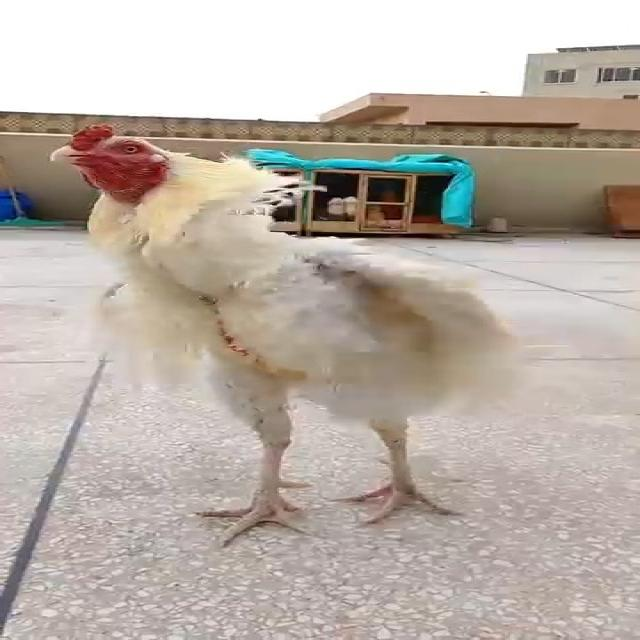wing flap: (18, 120, 618, 550)
